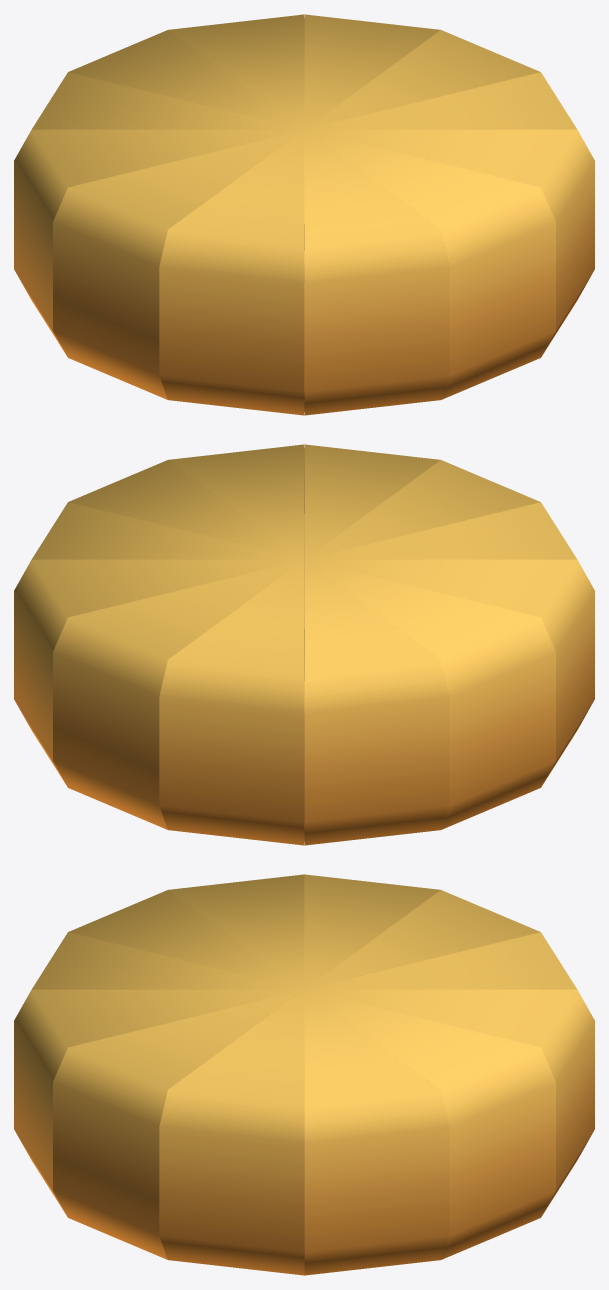
Rendered from ost.glb.
The picture shows the model from 3 angles, top to bottom: view 1: azimuth 30°, elevation 25°; view 2: azimuth 150°, elevation 25°; view 3: azimuth 270°, elevation 25°; orthographic projection.
Visible parts, largest first — view 1: wedge (×12); view 2: wedge (×12); view 3: wedge (×12).
Boxes of the visible parts, left/top/right/bottom form: wedge (×12): left=14, top=14, right=594, bottom=415; wedge (×12): left=14, top=444, right=594, bottom=845; wedge (×12): left=14, top=874, right=594, bottom=1275.
Bounding box in the file's own units: 0.68 × 0.22 × 0.68.
1 material, 1 textured.
